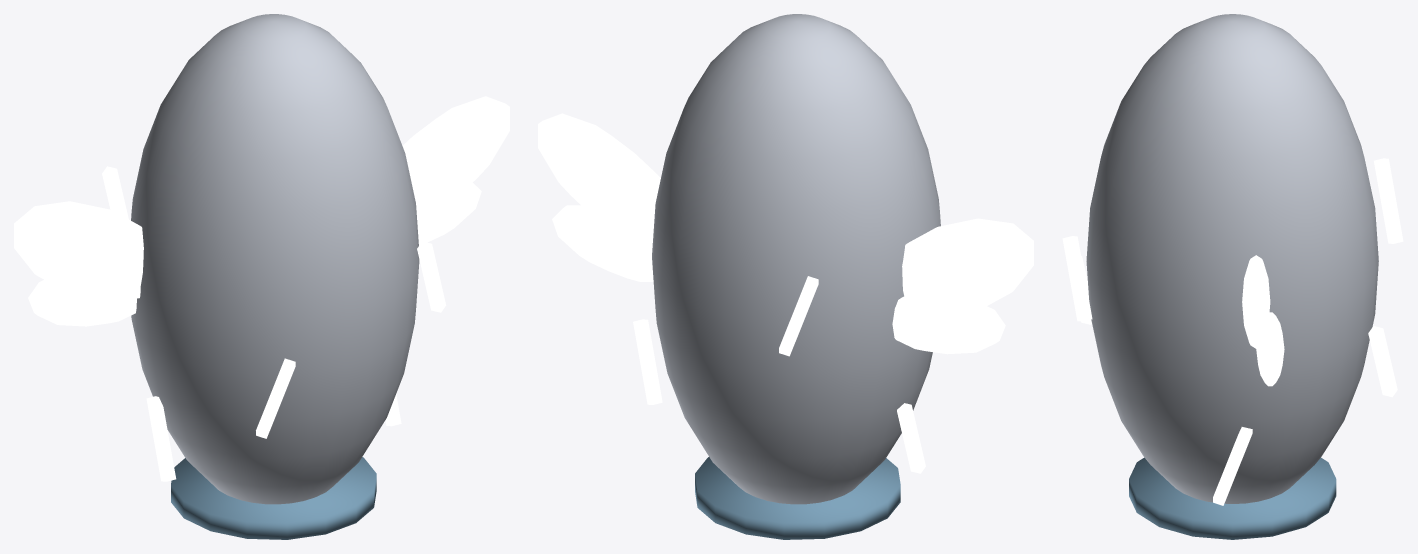
File: egg_snow_00.glb
3 views of the same model, side by side, from view 1: azimuth 30°, elevation 25°; view 2: azimuth 150°, elevation 25°; view 3: azimuth 270°, elevation 25° (orthographic).
Visible parts, largest first — view 1: ball; view 2: ball; view 3: ball.
Part boxes in pixels (bbox=[...]): ball: bbox=[14, 14, 509, 539]; ball: bbox=[538, 14, 1033, 539]; ball: bbox=[1062, 14, 1403, 539].
Size of the model in its own units: 1.2 by 1.12 by 0.7232.
